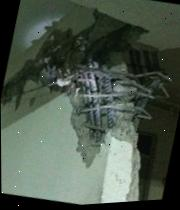spalling: (1, 9, 169, 202)
